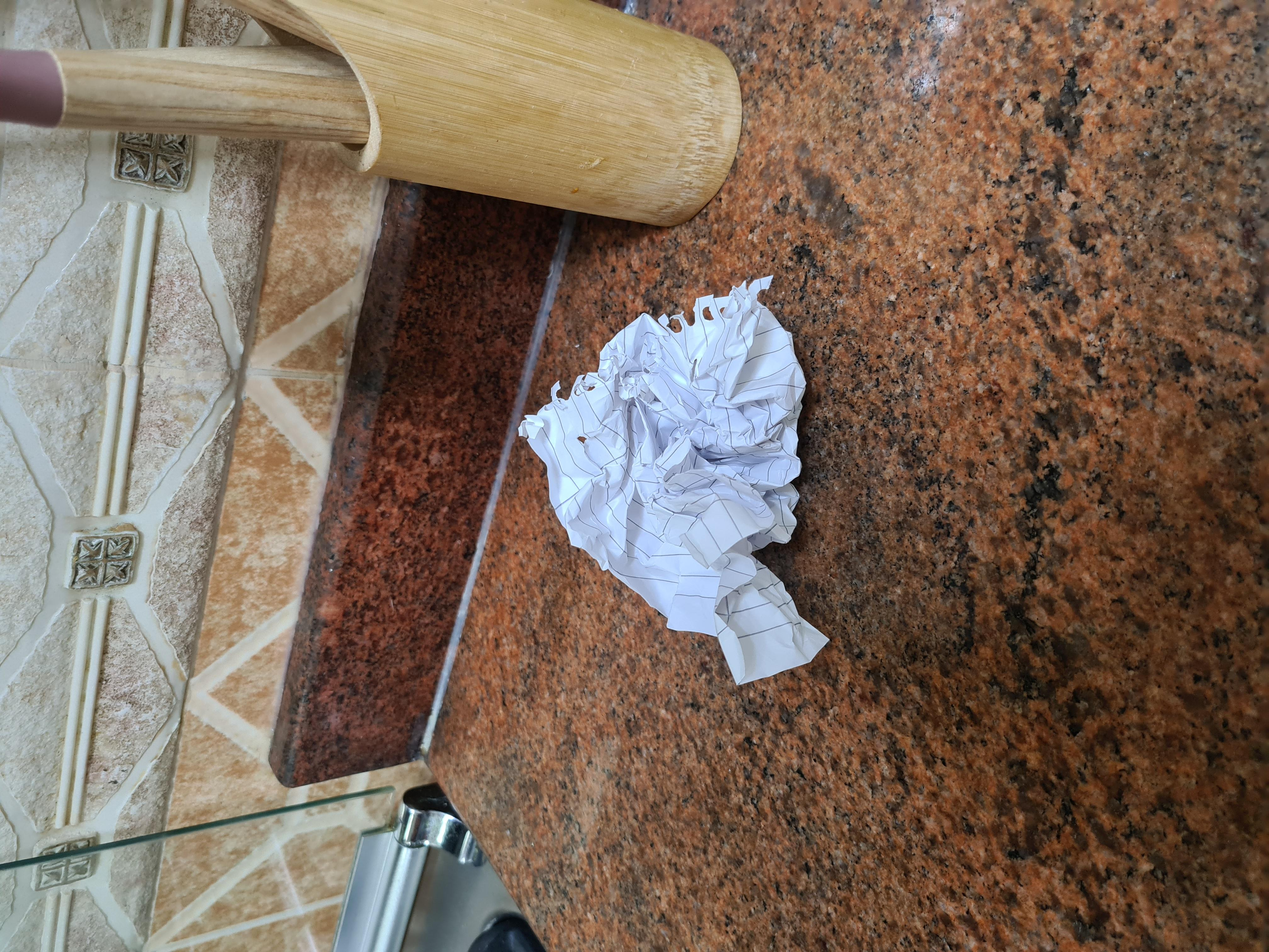paper: (353, 383, 904, 626)
